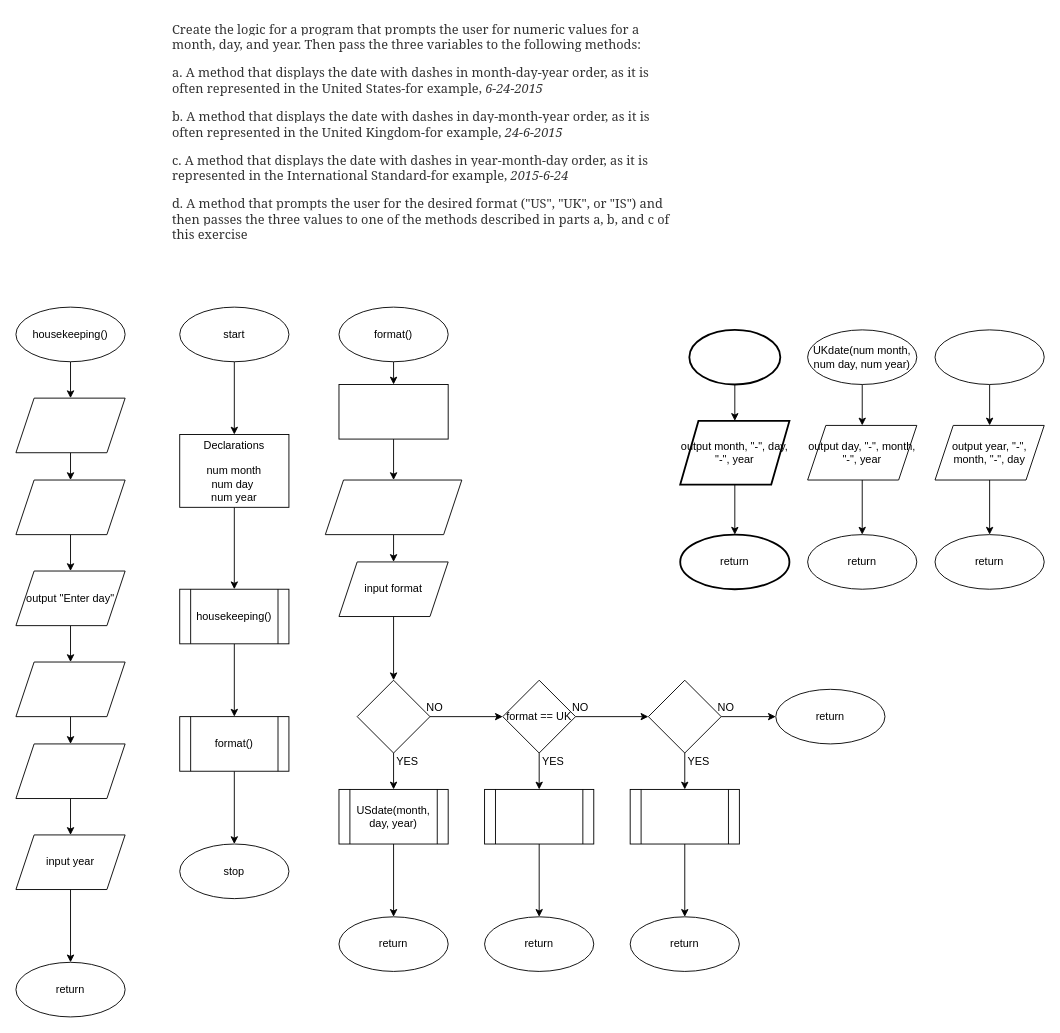
The diagram is 1060 pixels wide and 1033 high, and some of its shapes have lost their labels. The shapes that lost their labels are listed below. From the top down, each one's centre as x and y in pixels, then its label:
point (734, 357): USdate(num month, num day, num year)
point (989, 356): international(num month, num day, num year)
point (70, 425): output "Enter month"
point (393, 411): string format
point (70, 507): input month
point (393, 507): output "US, UK or IS?"
point (70, 689): input day
point (393, 716): format == US
point (684, 716): format == IS
point (70, 771): output "Enter year"
point (539, 816): UKdate(month, day, year)
point (684, 816): international(month, day, year)
